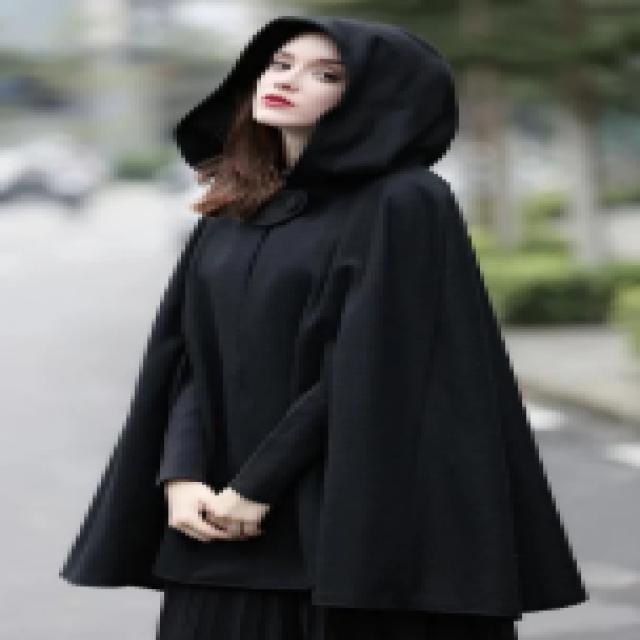4_capucha: (175, 13, 465, 182)
